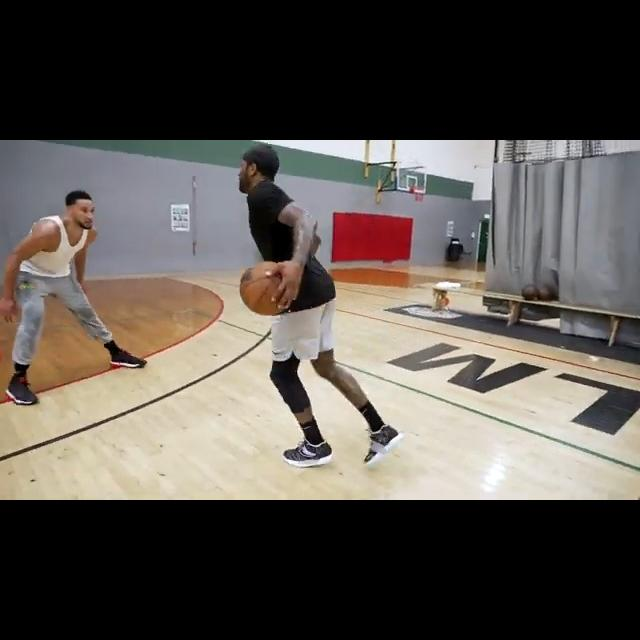basketball: (239, 263, 295, 317), (523, 285, 538, 301), (537, 286, 553, 299)
hoop: (411, 185, 427, 203)
person: (235, 143, 404, 471), (0, 189, 153, 411)
